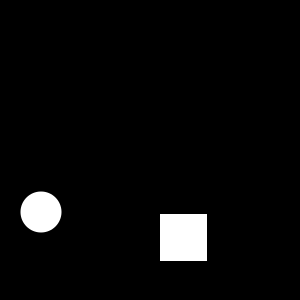circle: (160, 214, 207, 261)
rectangle: (20, 192, 61, 232)
